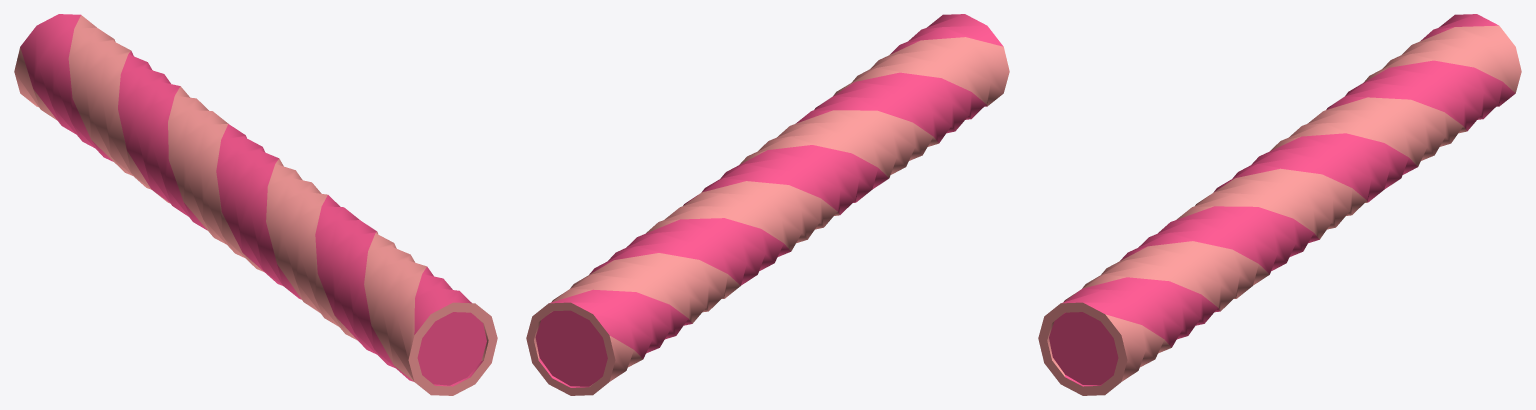
File: Wafer Roll Pink.fbx
3 renders of one model, left to right at view 1: azimuth 30°, elevation 25°; view 2: azimuth 150°, elevation 25°; view 3: azimuth 330°, elevation 25°, orthographic.
Visible parts, largest first — view 1: Wafer Roll Pink; view 2: Wafer Roll Pink; view 3: Wafer Roll Pink.
Boxes of the visible parts, left/top/right/bottom form: Wafer Roll Pink: left=14, top=14, right=497, bottom=395; Wafer Roll Pink: left=526, top=14, right=1009, bottom=395; Wafer Roll Pink: left=1038, top=14, right=1521, bottom=395.
Size of the model in its own units: 0.1 by 0.1 by 0.7649.
